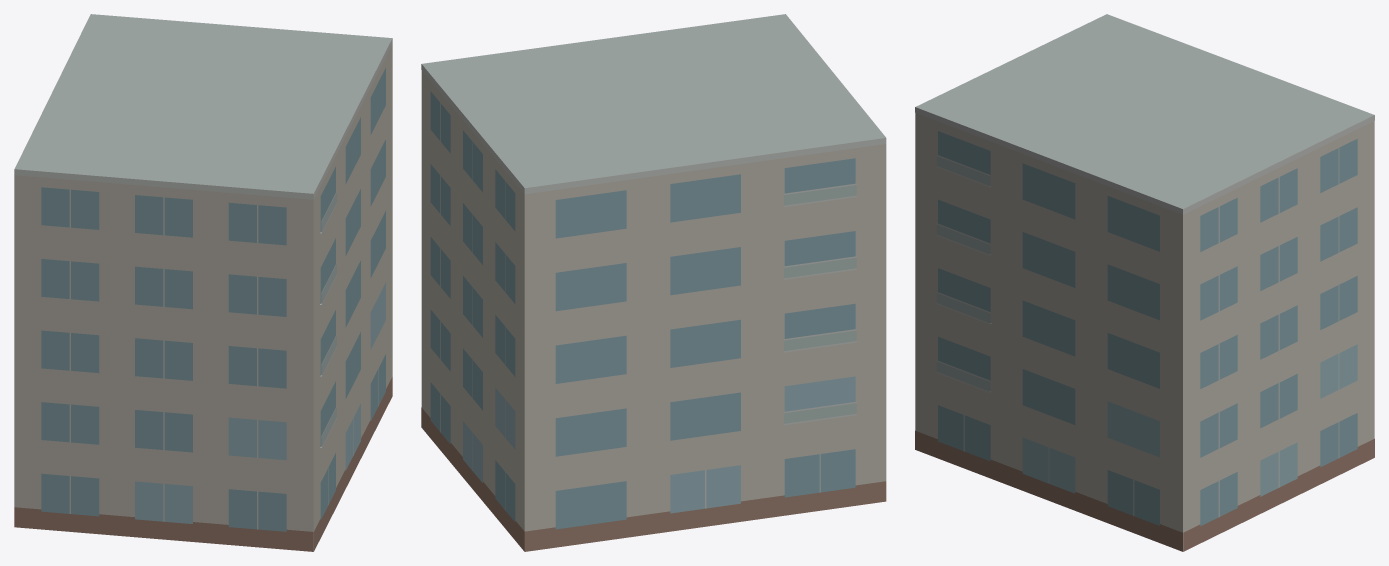
The model's file is survey-upis-32903819.glb.
The picture shows the model from 3 angles, left to right: view 1: azimuth 30°, elevation 25°; view 2: azimuth 150°, elevation 25°; view 3: azimuth 270°, elevation 25°; orthographic projection. The views are drawn at different scales.
Visible parts, largest first — view 1: survey-upis-32903819.tmp; view 2: survey-upis-32903819.tmp; view 3: survey-upis-32903819.tmp.
Boxes of the visible parts, box(x1,y1,x2,y2) form: survey-upis-32903819.tmp: box(14, 14, 392, 551); survey-upis-32903819.tmp: box(421, 14, 886, 551); survey-upis-32903819.tmp: box(915, 14, 1374, 551).
Bounding box in the file's own units: 17.96 × 14.7 × 17.87.
